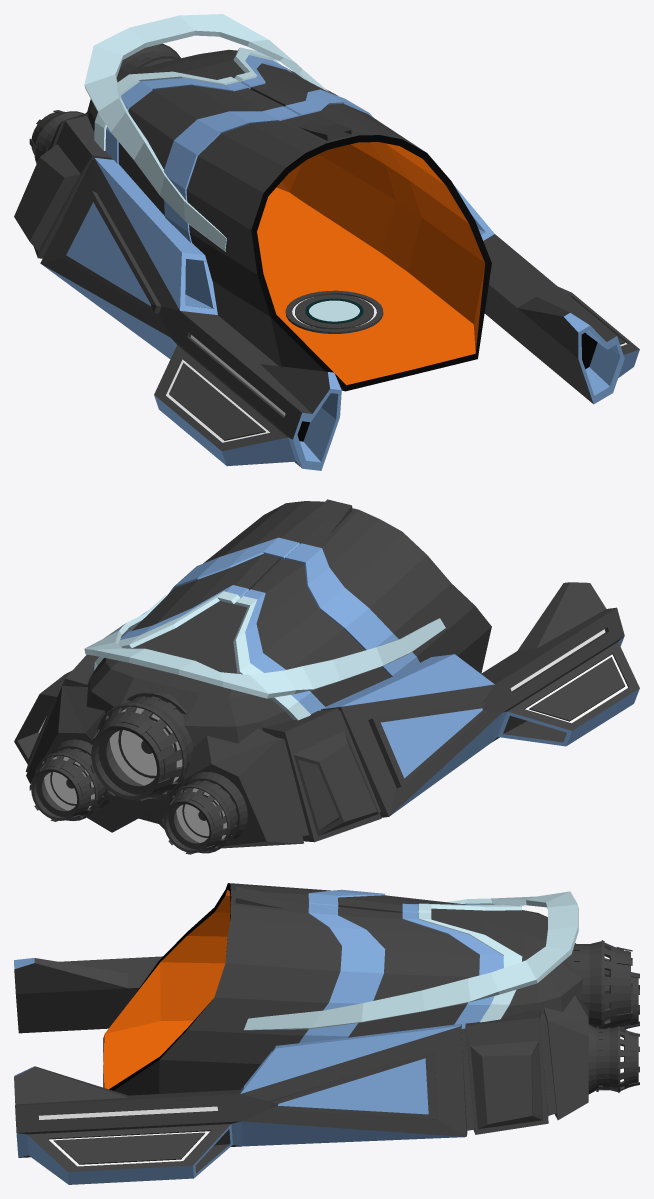
The model's file is Ship_Main.fbx.
3 views of the same model, one above another, from view 1: azimuth 30°, elevation 25°; view 2: azimuth 150°, elevation 25°; view 3: azimuth 270°, elevation 25° (orthographic). The views are drawn at different scales.
Visible parts, largest first — view 1: Body, Arm, Spoiler, Cylinder, Small Engines, Engine; view 2: Arm, Body, Small Engines, Engine, Spoiler; view 3: Arm, Body, Spoiler, Engine, Small Engines.
Boxes of the visible parts, x1,y1,x2,y2 form: Body: (86, 47, 491, 391); Arm: (14, 69, 639, 470); Spoiler: (84, 14, 329, 251); Cylinder: (285, 290, 383, 333); Small Engines: (29, 110, 84, 163); Engine: (117, 43, 180, 75); Arm: (14, 582, 639, 848); Body: (86, 499, 491, 823); Small Engines: (29, 739, 247, 854); Engine: (90, 691, 192, 801); Spoiler: (84, 593, 445, 698); Arm: (14, 956, 588, 1184); Body: (103, 883, 582, 1095); Spoiler: (244, 891, 578, 1030); Engine: (566, 940, 632, 1028); Small Engines: (588, 969, 639, 1094).
Size of the model in its own units: 398 by 199 by 559.
